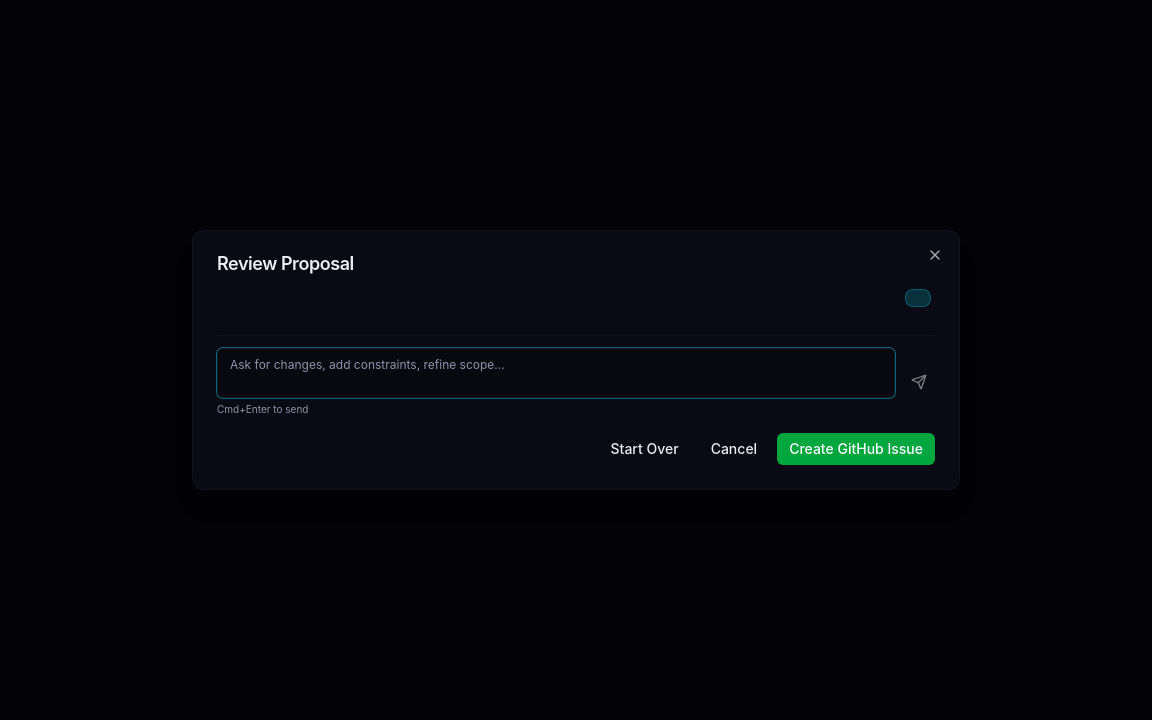
FeatureProposalModal › shows confirm creation dialog when "Create GitHub Issue" is clicked
Click the button "Create GitHub Issue" at x=856, y=449, box left=777, top=433, right=935, bottom=465
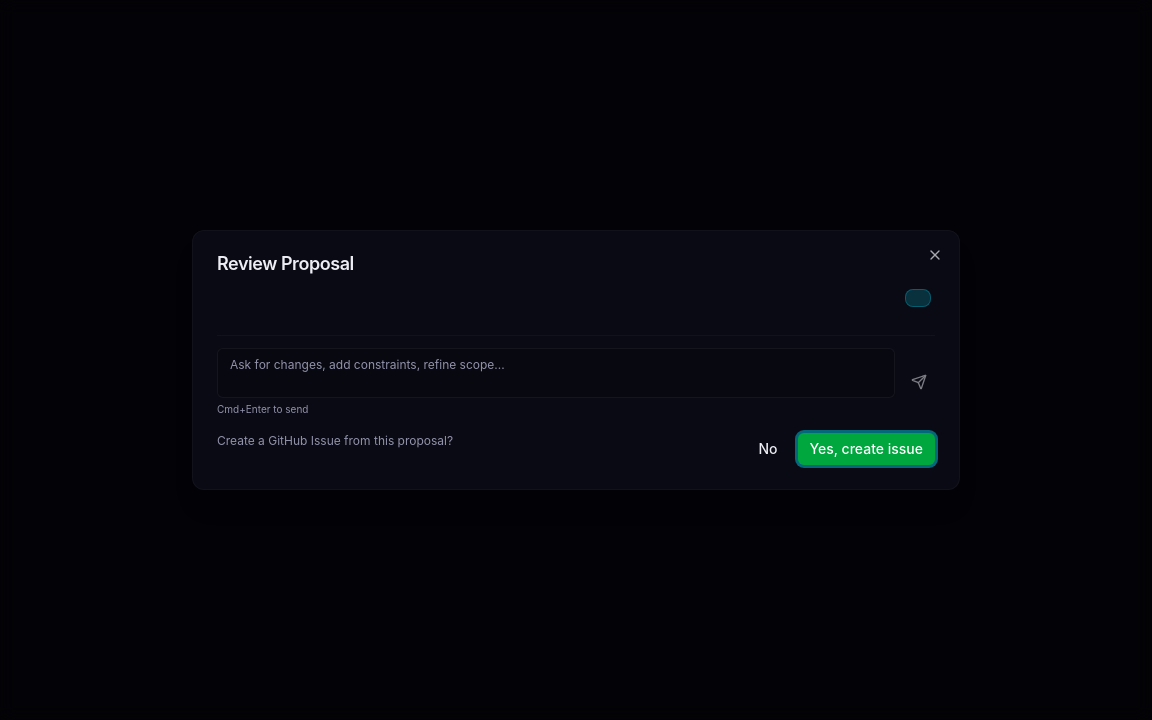
Now the text "Create a GitHub Issue from this proposal?" is shown, box left=217, top=433, right=453, bottom=448
